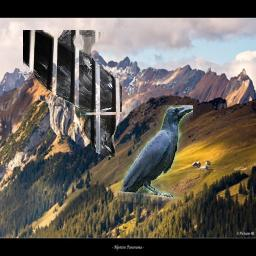Crow: (24, 31, 123, 158), (115, 105, 194, 209)
